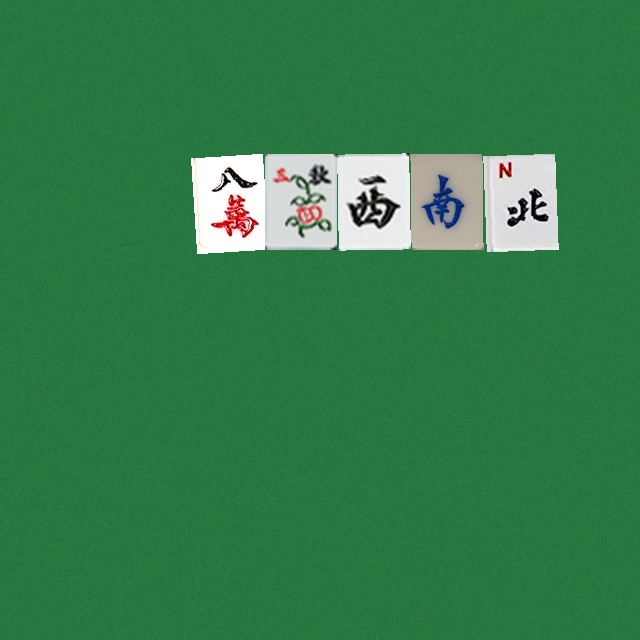tile: (191, 153, 263, 249), (264, 153, 336, 249), (337, 153, 409, 249), (410, 153, 482, 249), (483, 153, 555, 249)
